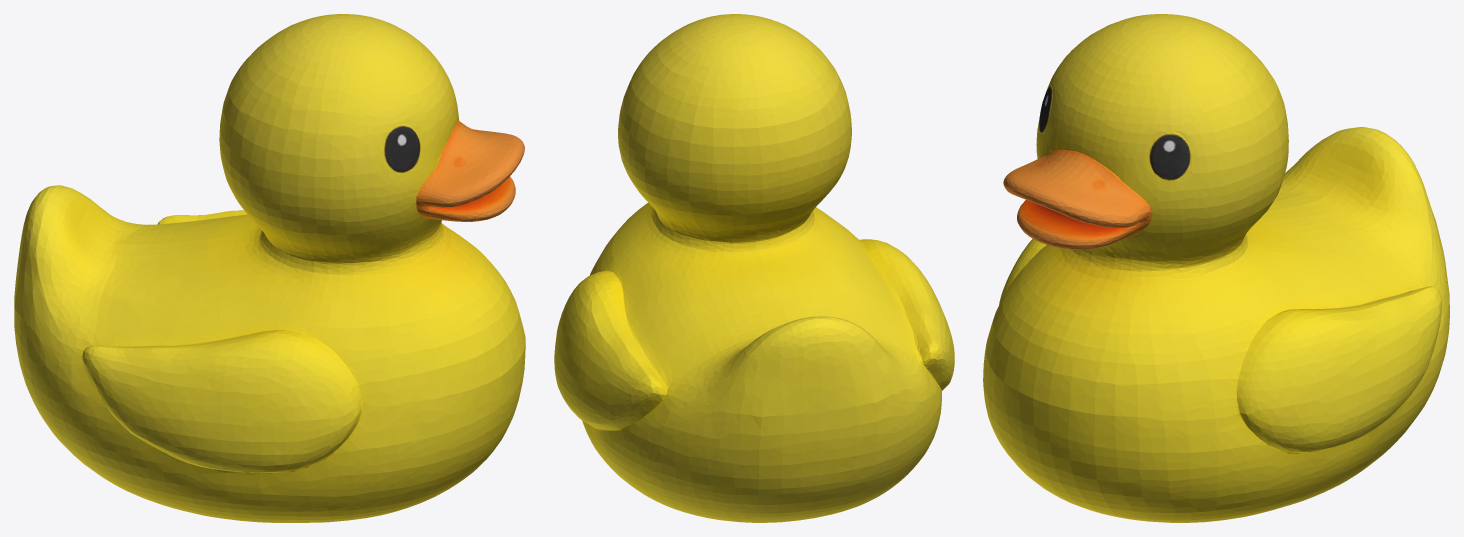
File: rubber_duck_-_toy.glb
The picture shows the model from 3 angles, left to right: view 1: azimuth 30°, elevation 25°; view 2: azimuth 150°, elevation 25°; view 3: azimuth 270°, elevation 25°; orthographic projection. The views are drawn at different scales.
Visible parts, largest first — view 1: Object_4; view 2: Object_4; view 3: Object_4.
Part boxes in pixels (x1,y1,x2,y2): Object_4: [14, 14, 525, 522]; Object_4: [554, 14, 954, 522]; Object_4: [983, 14, 1449, 522].
Bounding box in the file's own units: 0.9059 × 0.9826 × 0.8952.
1 material, 1 textured.
